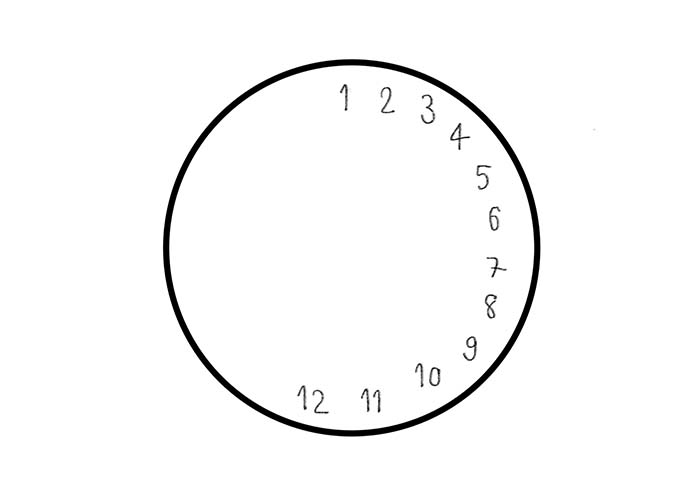eight: (478, 290, 501, 325)
eleven: (357, 381, 387, 418)
five: (472, 159, 493, 195)
four: (447, 116, 472, 157)
nine: (459, 332, 483, 364)
one: (335, 78, 356, 115)
seven: (482, 249, 507, 282)
six: (487, 201, 503, 237)
ten: (409, 355, 447, 392)
three: (417, 88, 439, 127)
twelve: (292, 376, 333, 417)
two: (372, 80, 405, 122)
